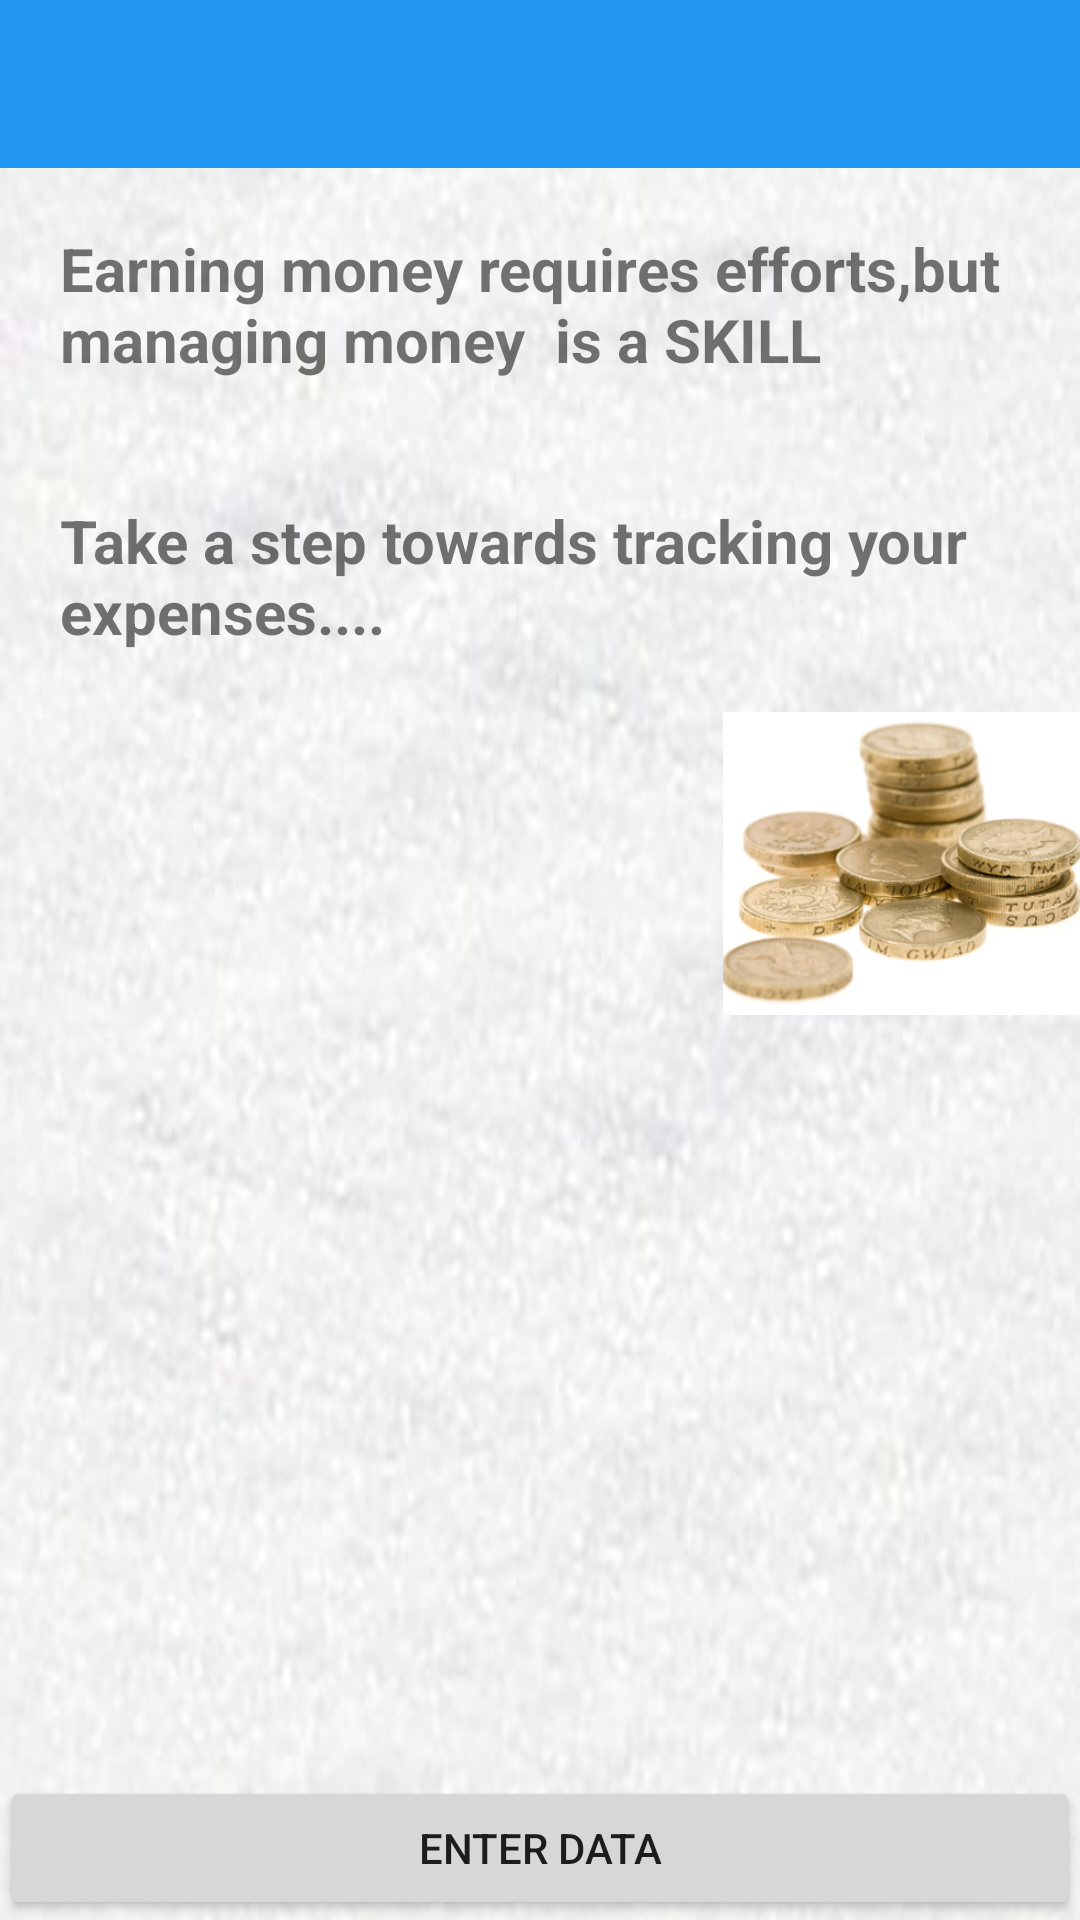

Named icons in this screenshot (1080px×1920px) and their centers, (x,y):
money: (901,862)
